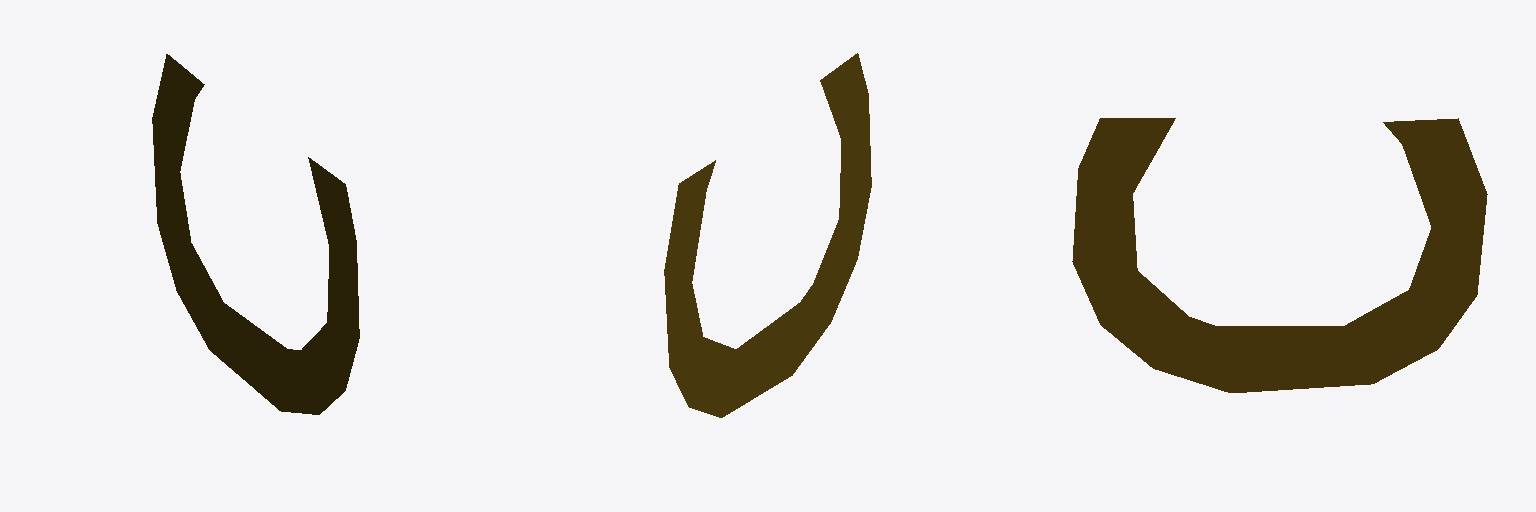
The model's file is original-16.obj.
3 views of the same model, side by side, from view 1: azimuth 30°, elevation 25°; view 2: azimuth 150°, elevation 25°; view 3: azimuth 270°, elevation 25° (orthographic).
Parts seen in each view (by area): view 1: #ID94; view 2: #ID94; view 3: #ID94.
Part boxes in pixels (bbox=[...]): #ID94: bbox=[152, 54, 359, 414]; #ID94: bbox=[664, 53, 871, 417]; #ID94: bbox=[1072, 118, 1487, 392].
Bounding box in the file's own units: 0 × 0.0182 × 0.0249.